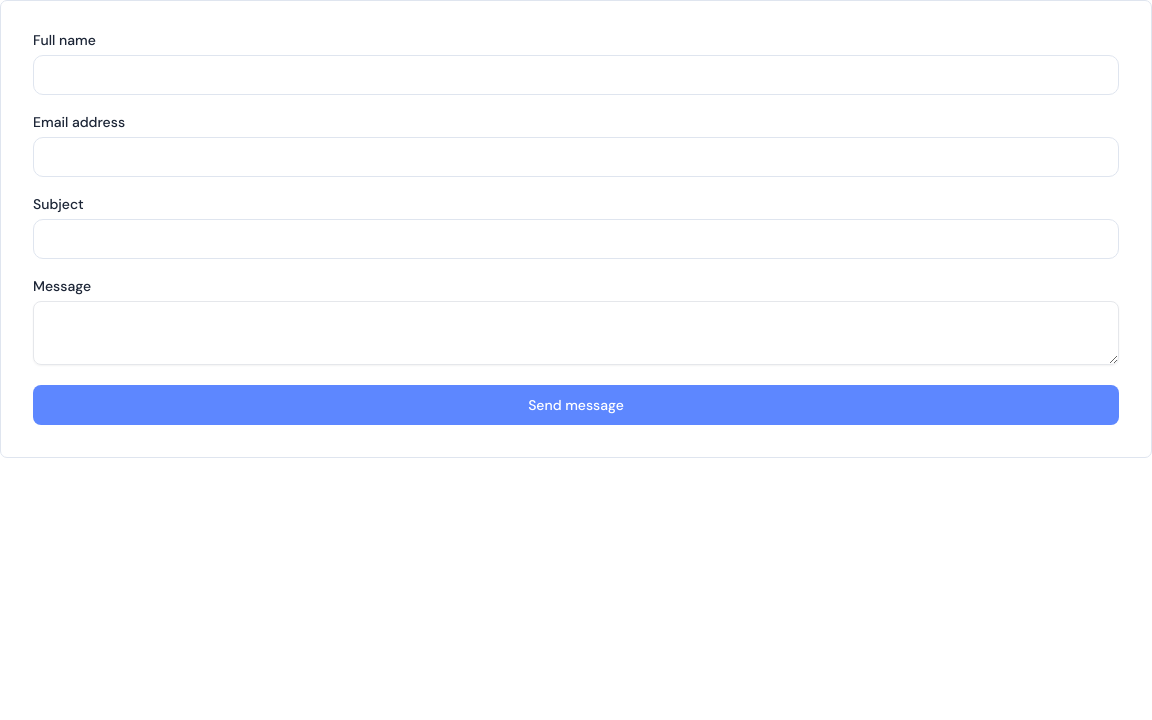
Test: contact form › shows server-side field errors
Type "Ada Obi" into the field labelled "Full name" at (576, 75), box [33,55,1119,95]
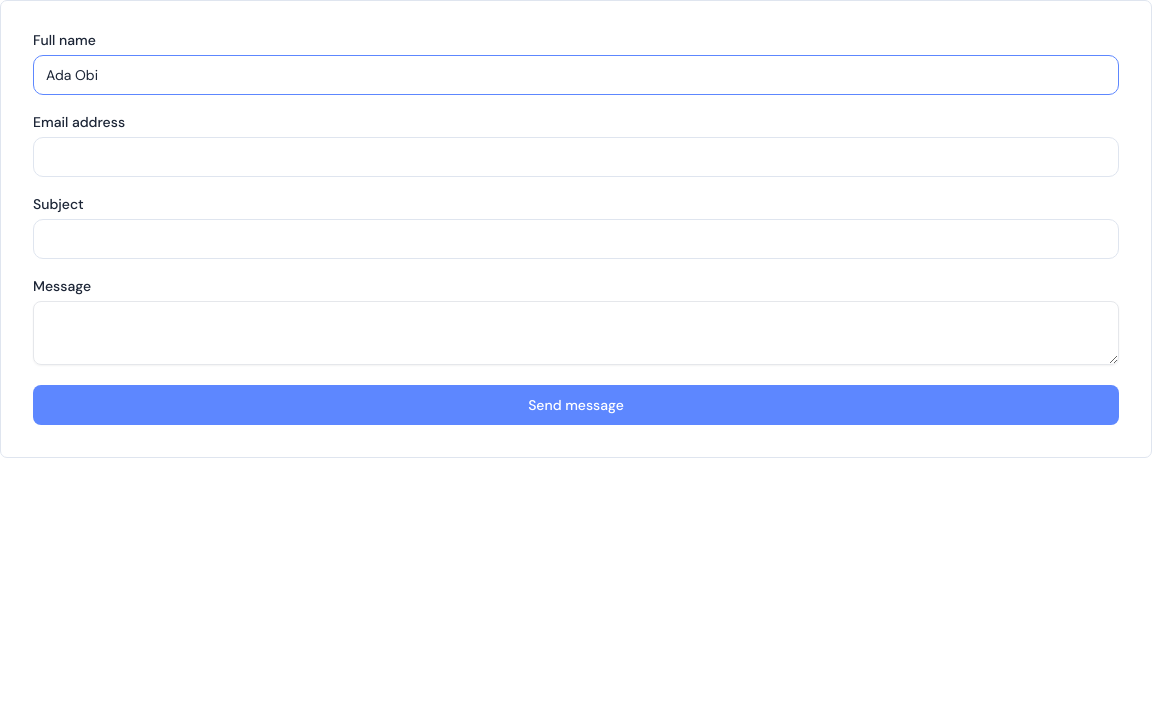
Type "ada@example.com" into the field labelled "Email address" at (576, 157), box [33,137,1119,177]
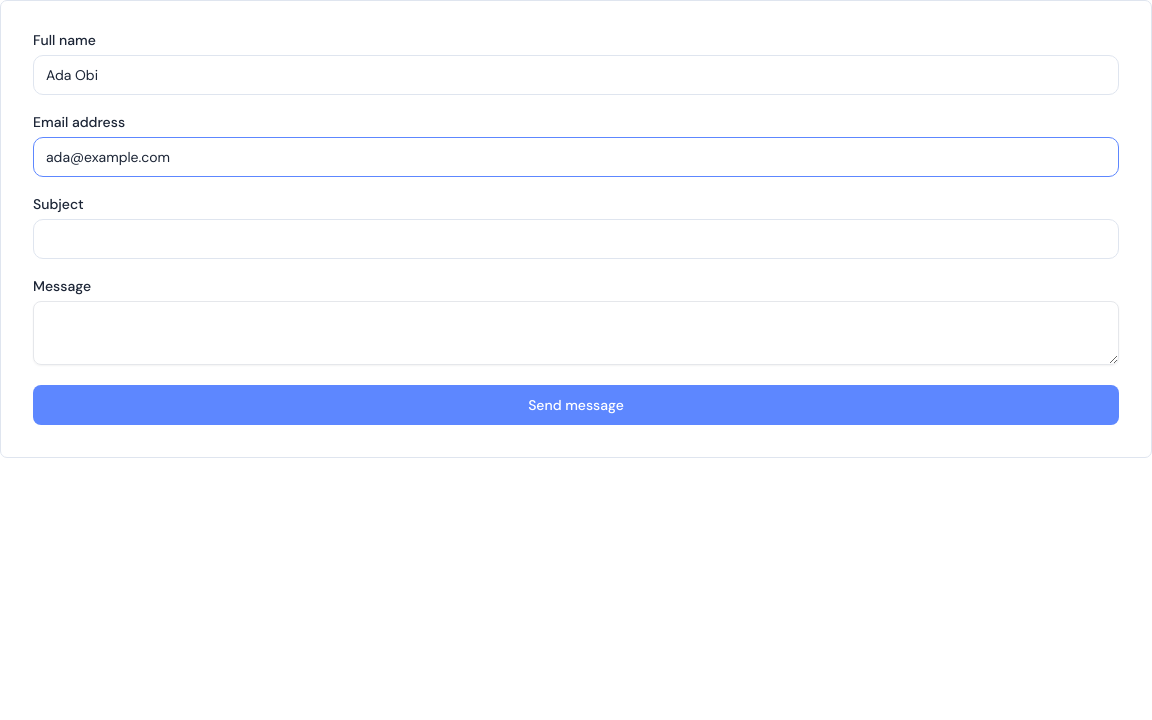
Type "Pricing question" into the field labelled "Subject" at (576, 239), box [33,219,1119,259]
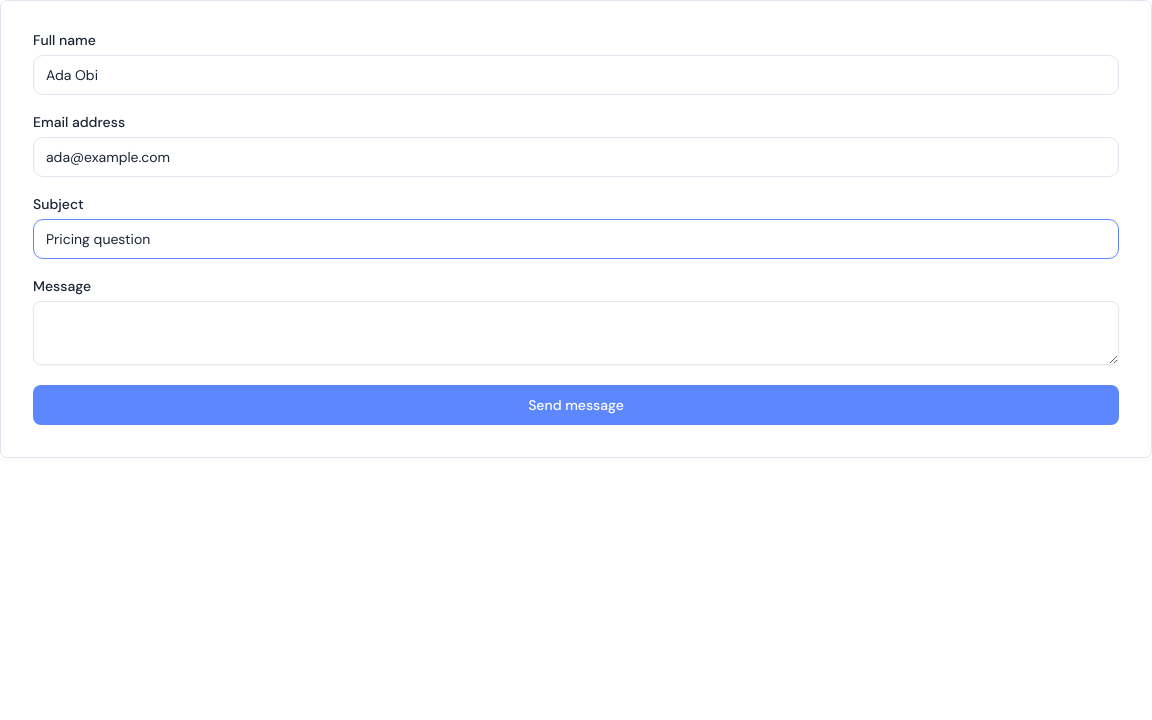
Type "Hello, I would like to know more." into the text box labelled "Message" at (576, 333), box [33,301,1119,365]
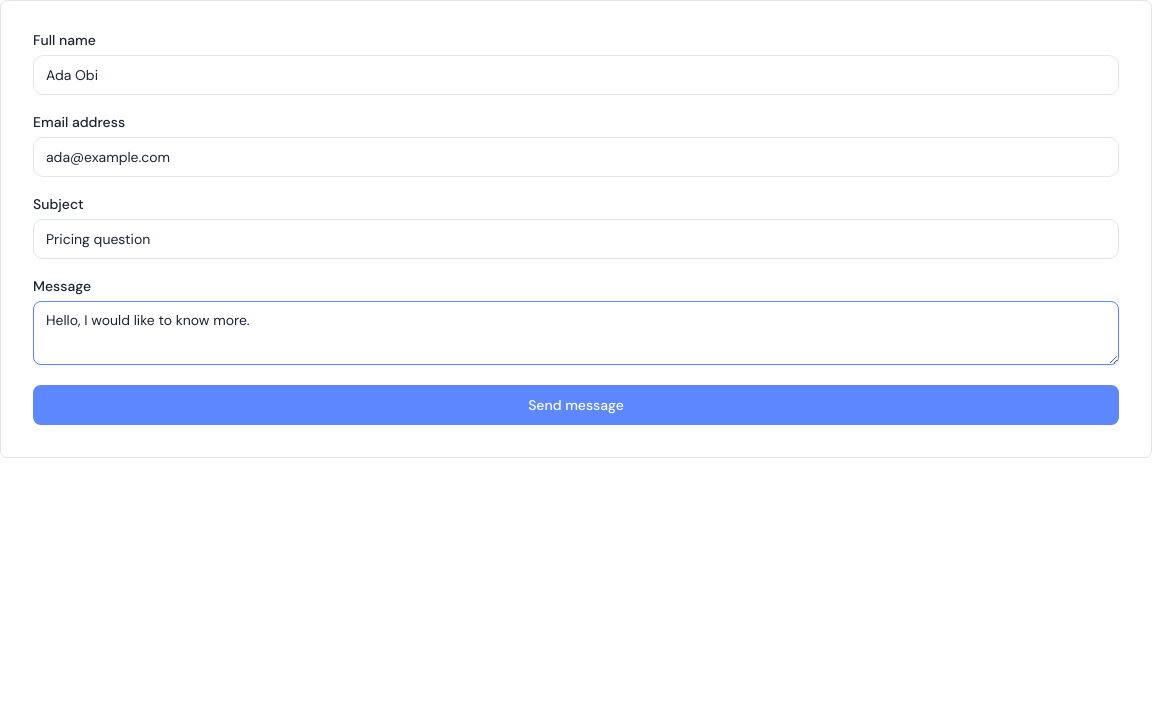
Click the button "Send message" at (576, 405), box [33,385,1119,425]
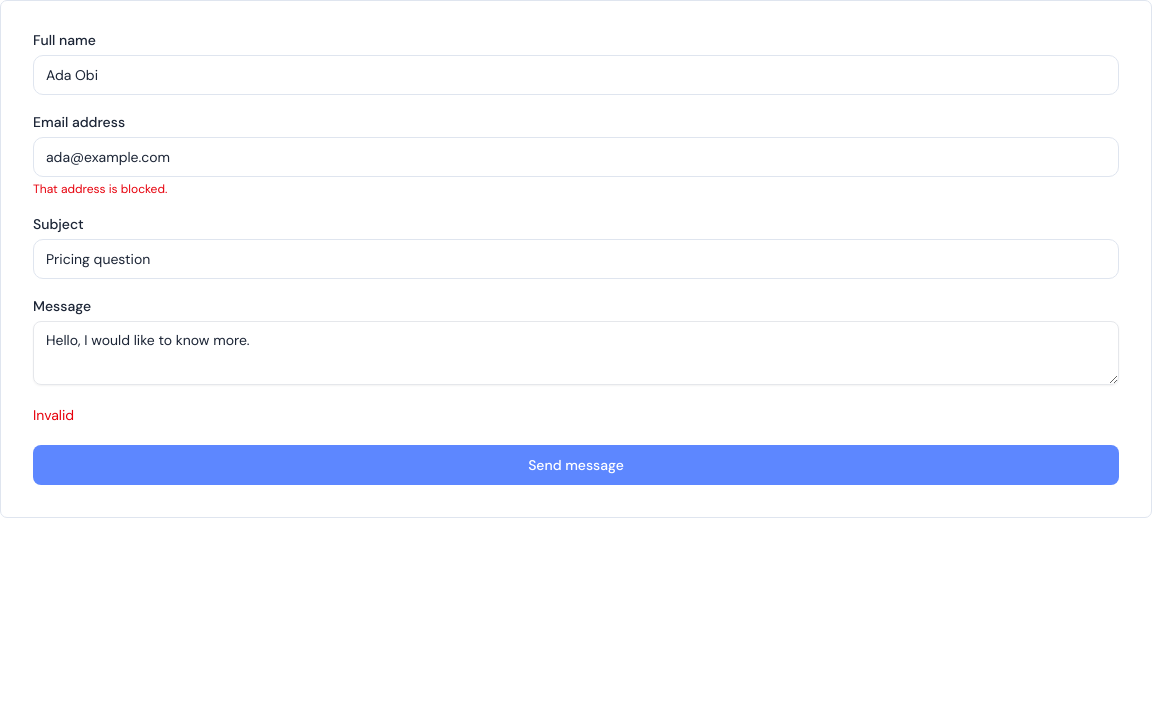
Expected: the text "That address is blocked." is shown, [33,181,167,197]
